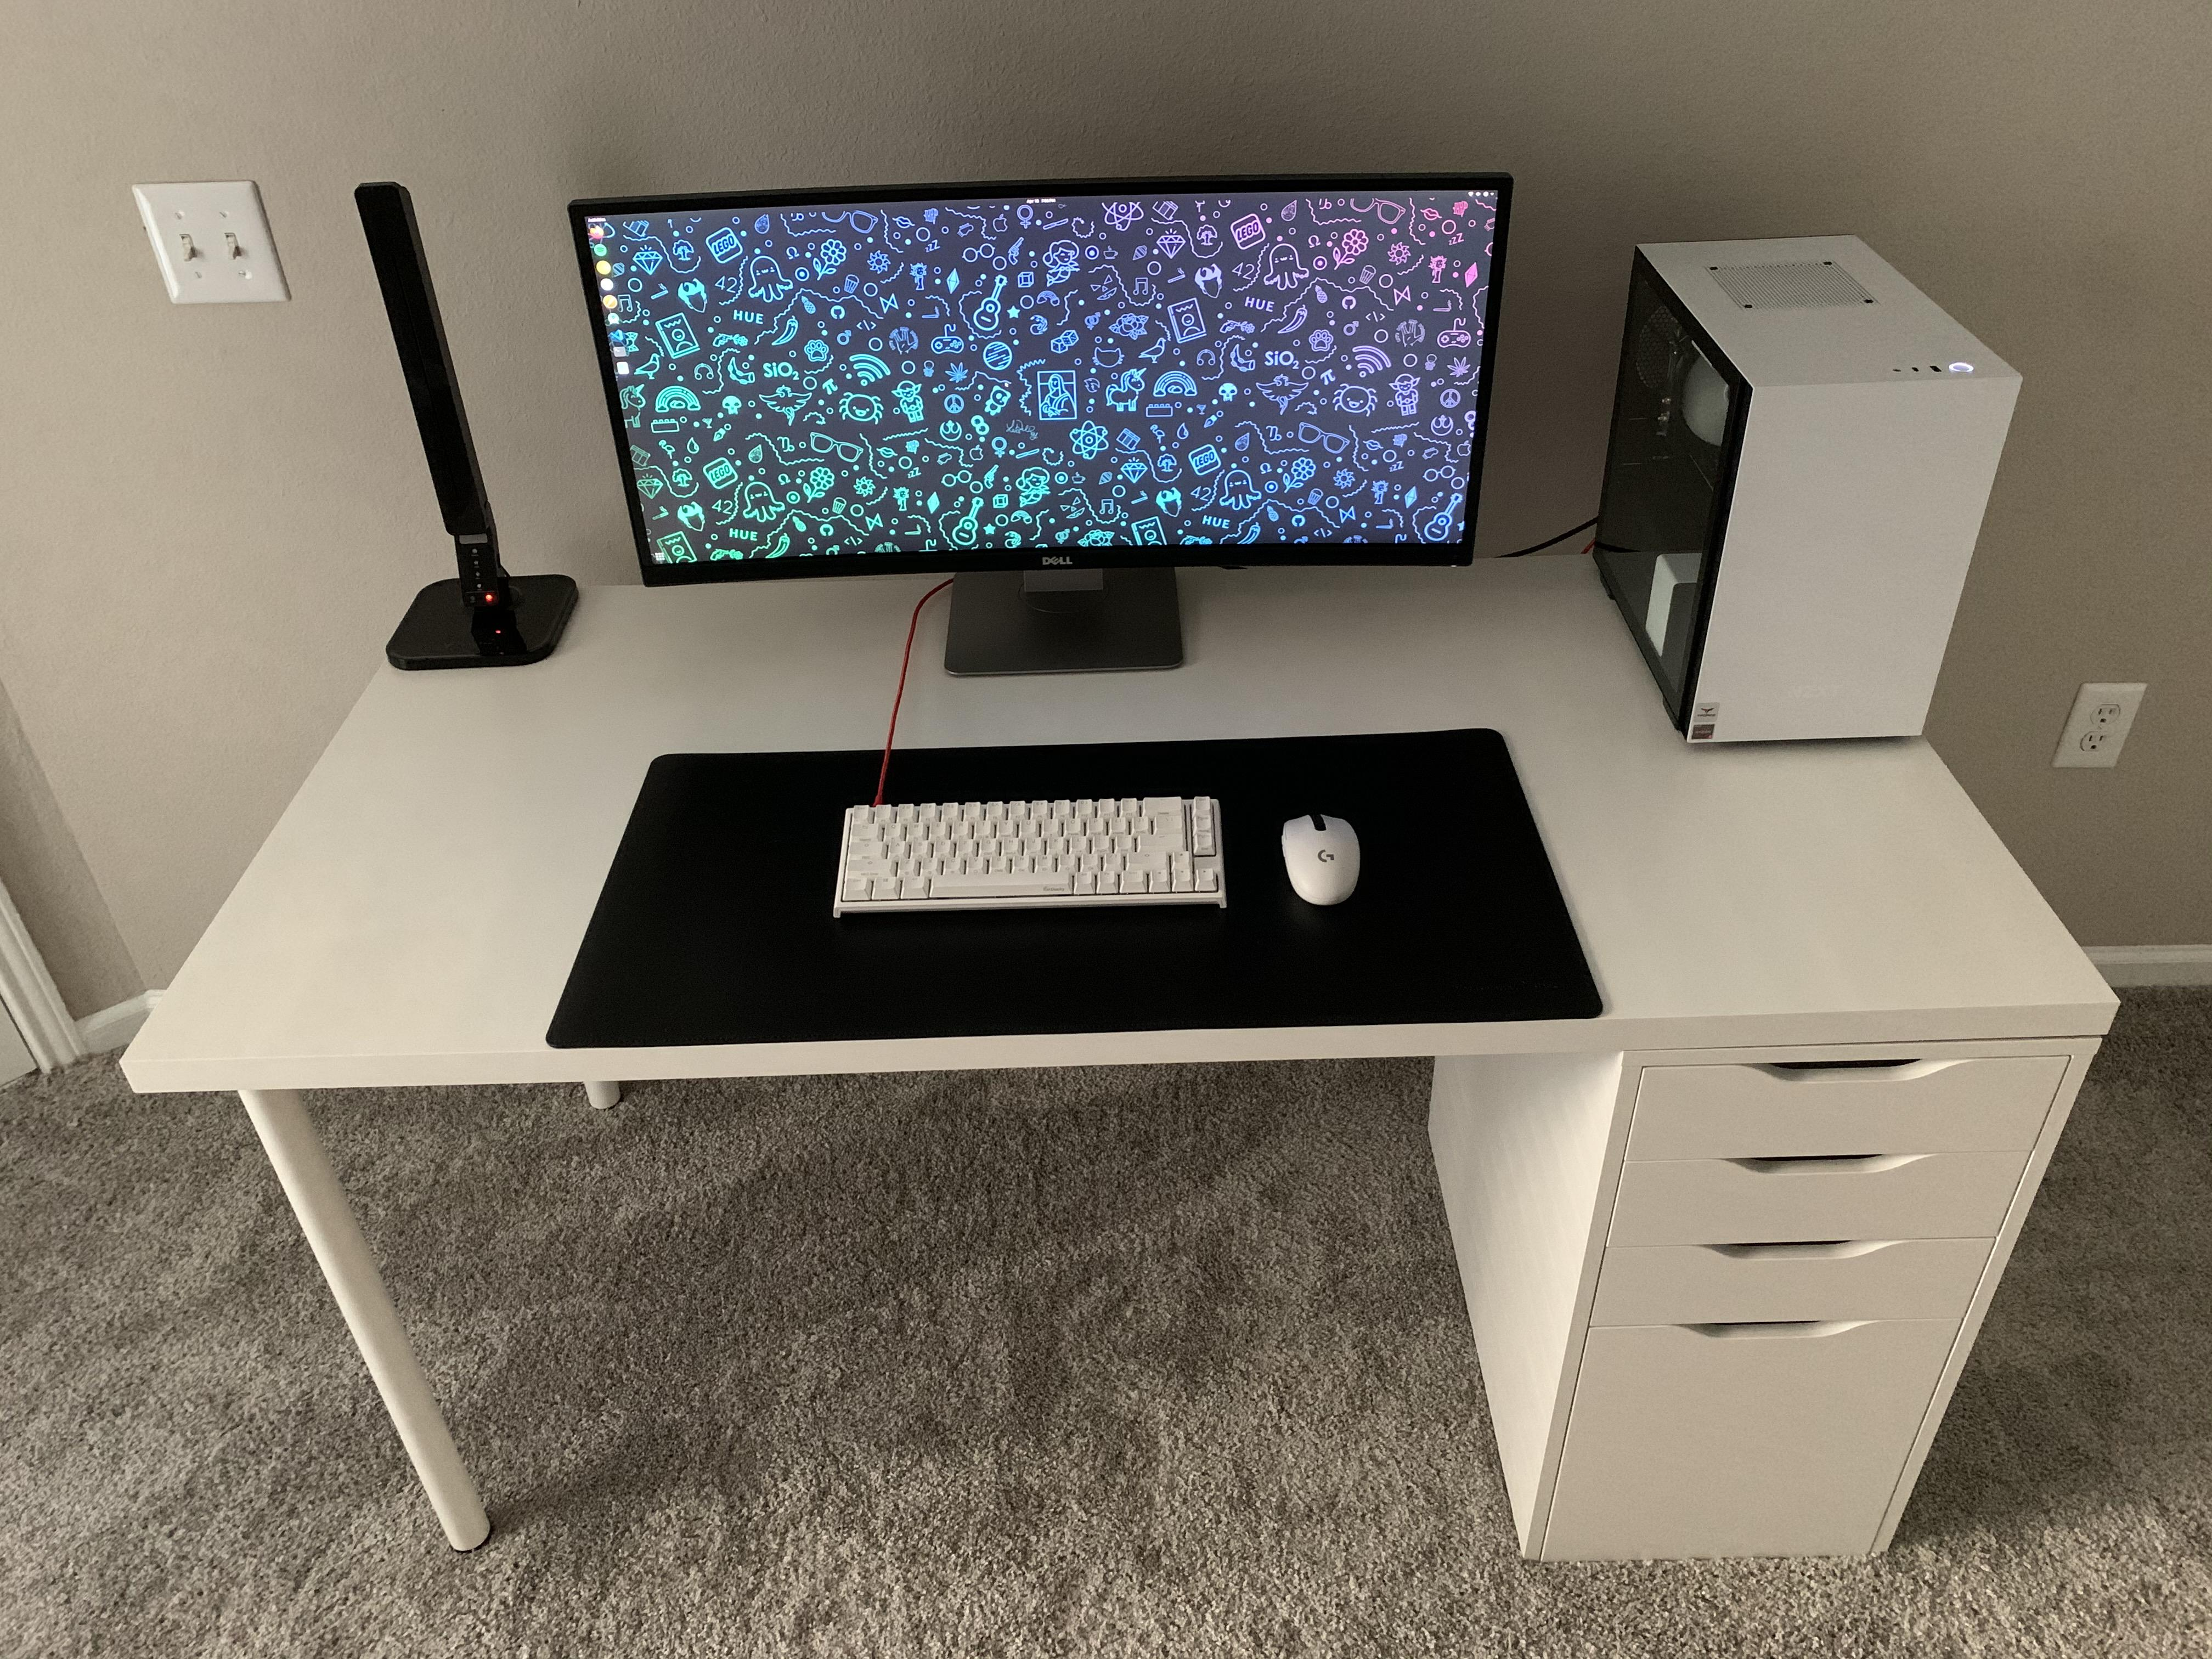Desk (Generic): (117, 547, 2099, 1077)
Desktop (Linux): (1629, 247, 1954, 753)
Keyboard (Generic): (824, 795, 1235, 927)
Monitor (Landscape): (571, 202, 1479, 566)
Mouse (Generic): (1259, 796, 1388, 920)
Mousepad (Gaming): (556, 744, 1613, 1014)
Storage Drawer: (1588, 1054, 2020, 1565)
